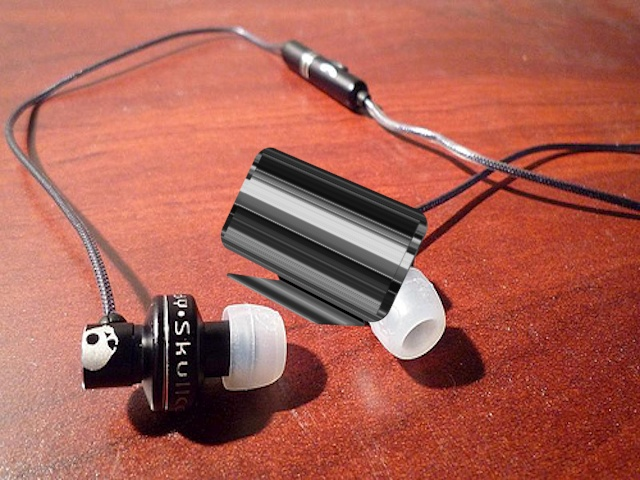monitor: (217, 145, 432, 328)
